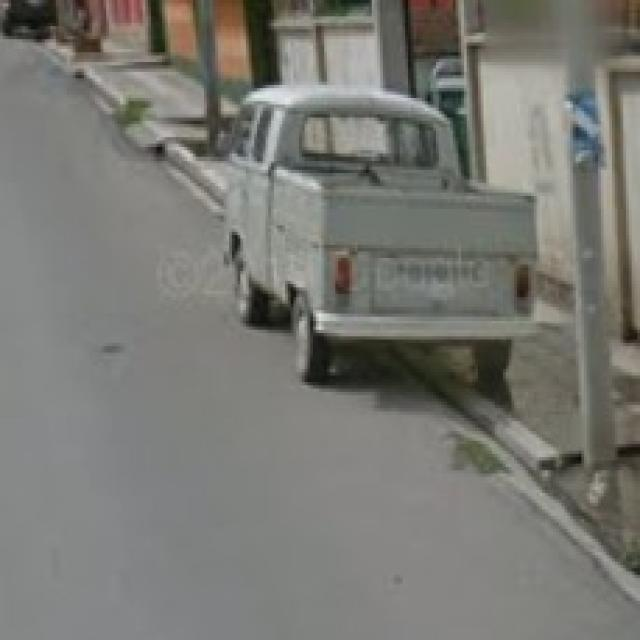cars: (209, 65, 542, 405)
